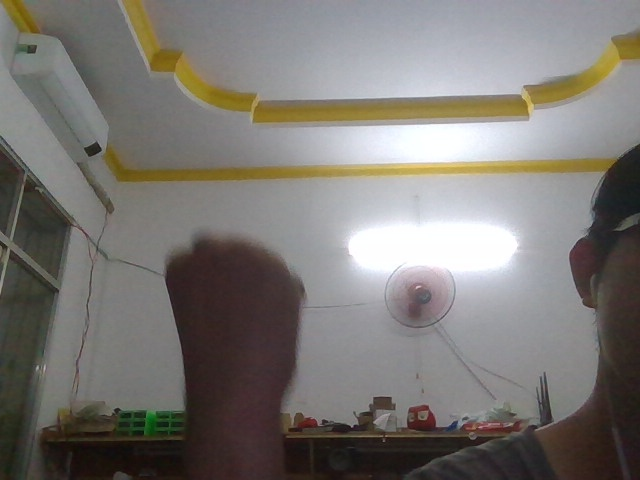fist: (125, 184, 329, 449)
